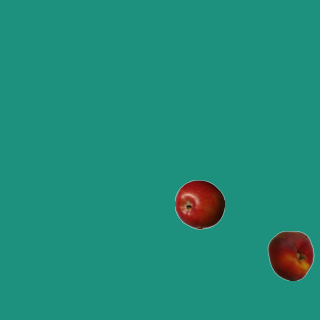Apple Braeburn: (174, 179, 224, 229)
Nectarine Flat: (265, 230, 315, 280)
